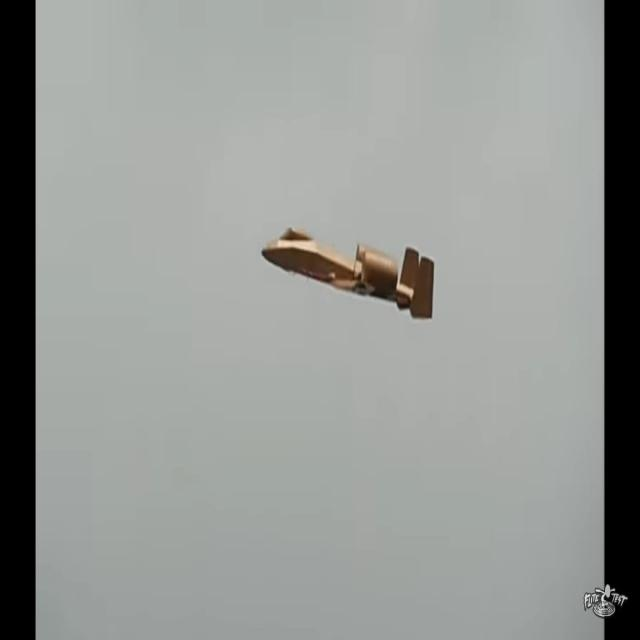iha: (262, 258, 435, 290)
